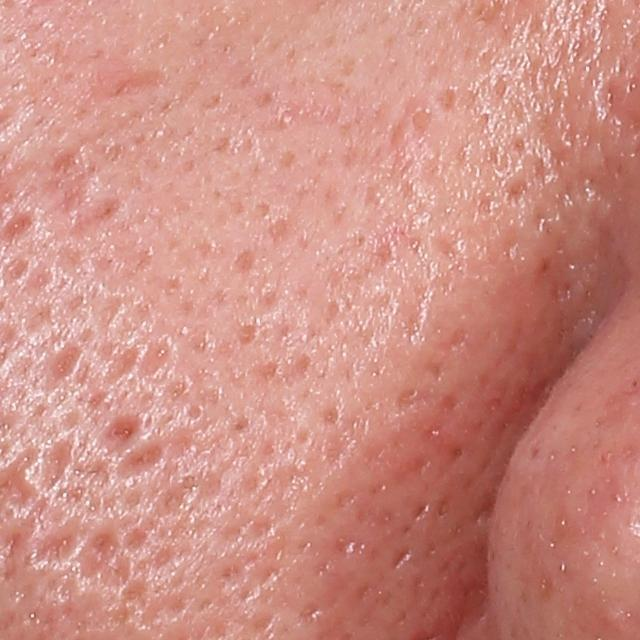atrophic_scar: (40, 140, 130, 248), (23, 513, 91, 576), (108, 428, 169, 485), (66, 525, 120, 586), (82, 67, 170, 102), (36, 431, 79, 498), (49, 338, 89, 393), (96, 411, 143, 454)
